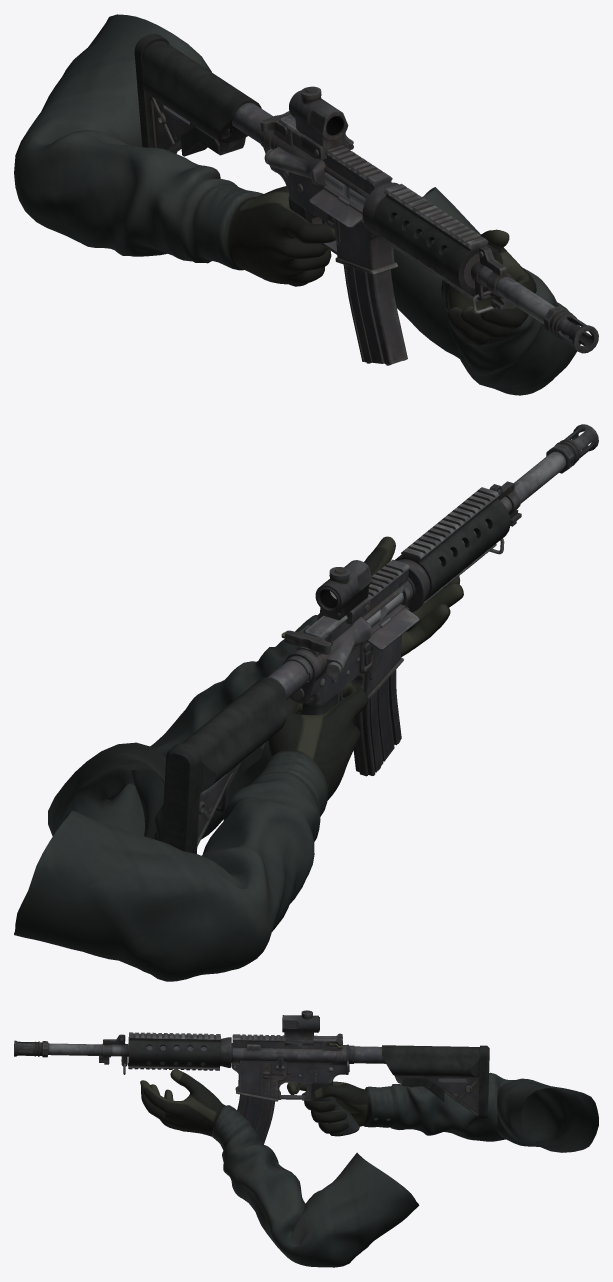
File: carbine_000010.obj
The picture shows the model from 3 angles, top to bottom: view 1: azimuth 30°, elevation 25°; view 2: azimuth 150°, elevation 25°; view 3: azimuth 270°, elevation 25°; orthographic projection. The views are drawn at different scales.
Visible parts, largest first — view 1: armmesh_arms_0, base_carbine_0, clip_carbine_0, scope_carbine_0, lid_carbine_0; view 2: armmesh_arms_0, base_carbine_0, clip_carbine_0, scope_carbine_0, lid_carbine_0, handle_carbine_0; view 3: armmesh_arms_0, base_carbine_0, scope_carbine_0, clip_carbine_0.
Part boxes in pixels (x1,y1,x2,y2): armmesh_arms_0: (14,14,580,395); base_carbine_0: (134,33,598,353); clip_carbine_0: (343,265,407,365); scope_carbine_0: (289,86,353,159); lid_carbine_0: (309,189,362,227); armmesh_arms_0: (14,536,463,981); base_carbine_0: (161,424,598,853); clip_carbine_0: (353,669,401,776); scope_carbine_0: (315,560,372,624); lid_carbine_0: (367,608,419,650); handle_carbine_0: (284,625,332,654); armmesh_arms_0: (140,1068,598,1267); base_carbine_0: (14,1032,489,1136); scope_carbine_0: (282,1010,319,1046); clip_carbine_0: (237,1094,275,1143).
Bounding box in the file's own units: 49.78 × 46.45 × 124.
3 materials, 3 textured.
